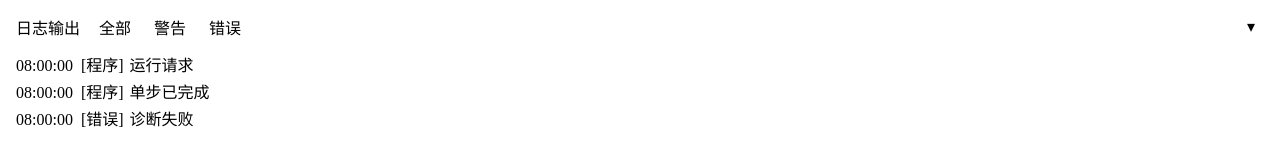
Test case: RunLogPanel › 收起/展开切换日志体
Click the button with class "log-toggle": (1251, 27) left=1238, top=14, right=1264, bottom=40
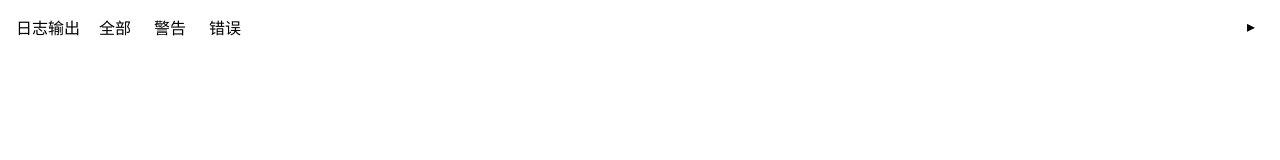
Result: the button with class "log-toggle" is collapsed at left=1238, top=14, right=1264, bottom=40
Result: the element with class "log-body" is gone
